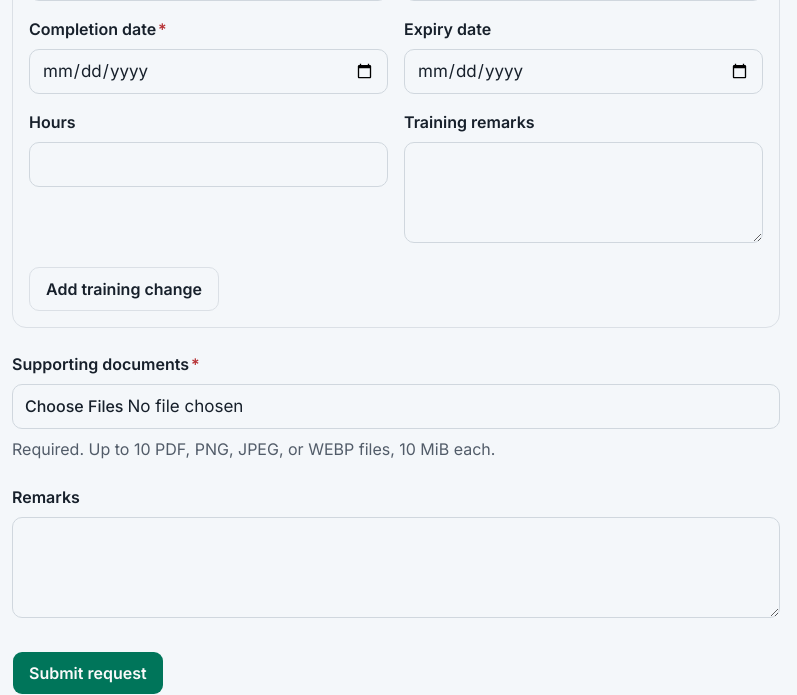
ProfileChangeRequestForm › requires at least one proposed change
(page scrolled)
Click the button "Submit request" at (88, 673), box x1=12 y1=651 x2=164 y2=694
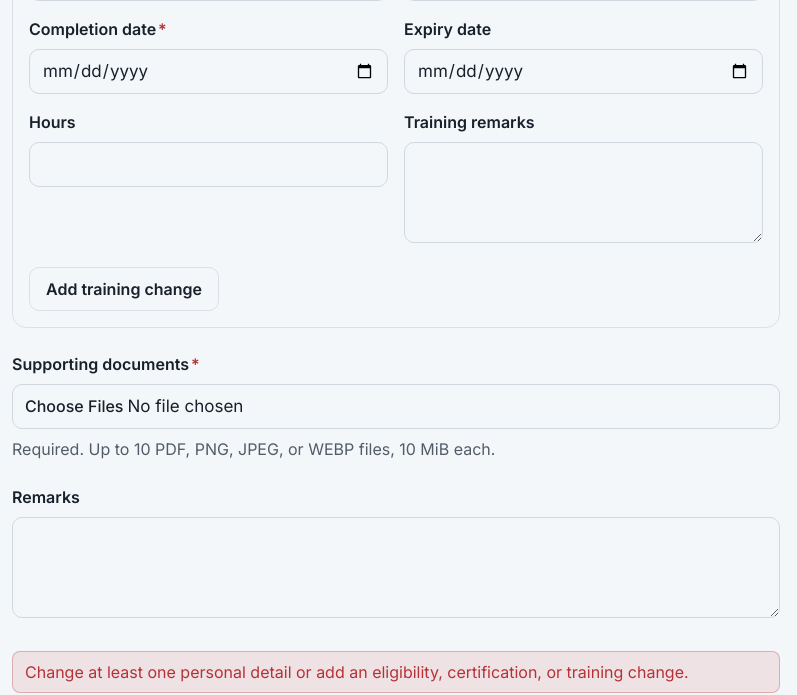
Expected: the message shows "Change at least one personal detail or add an eligibility, certification, or training change.", x1=25 y1=662 x2=689 y2=682
